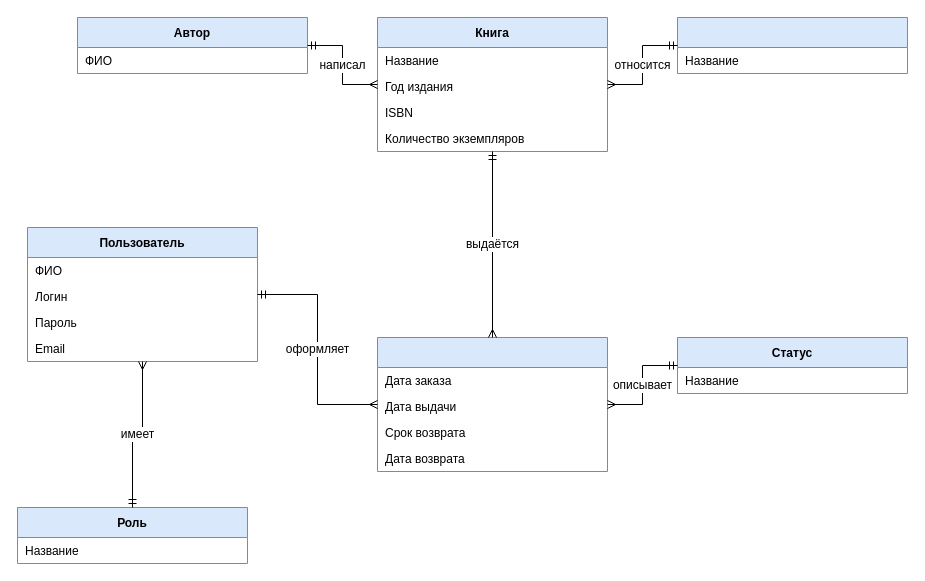
Some shapes in this 925 by 581 pixel diagram are drawn without their labels. Here are the shapes that lost their labels. From the top down, the box of each, then its label:
(676, 16, 908, 74): Жанр
(376, 336, 608, 472): Выдача
